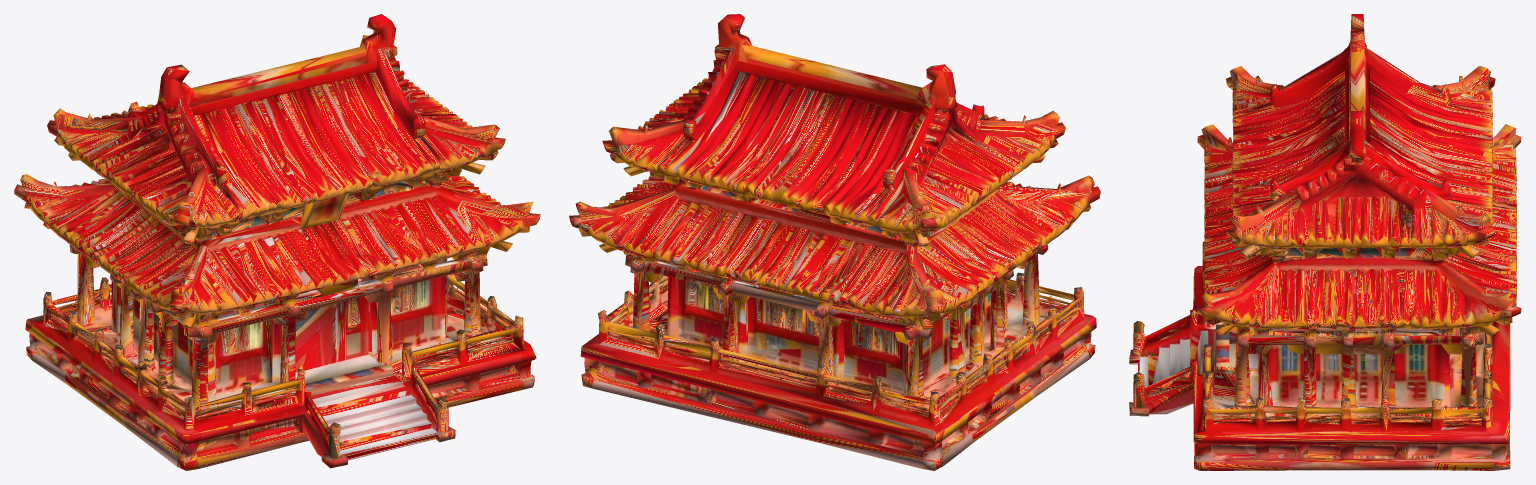
The picture shows the model from 3 angles, left to right: view 1: azimuth 30°, elevation 25°; view 2: azimuth 150°, elevation 25°; view 3: azimuth 270°, elevation 25°; orthographic projection. The views are drawn at different scales.
Visible parts, largest first — view 1: Untitled_6; view 2: Untitled_6; view 3: Untitled_6.
Part boxes in pixels (left/top/right/bottom): Untitled_6: left=14, top=14, right=540, bottom=470; Untitled_6: left=569, top=14, right=1100, bottom=470; Untitled_6: left=1129, top=14, right=1521, bottom=470.
Size of the model in its own units: 2 by 1.69 by 1.86.
Materials: 1 (1 with a texture image).
